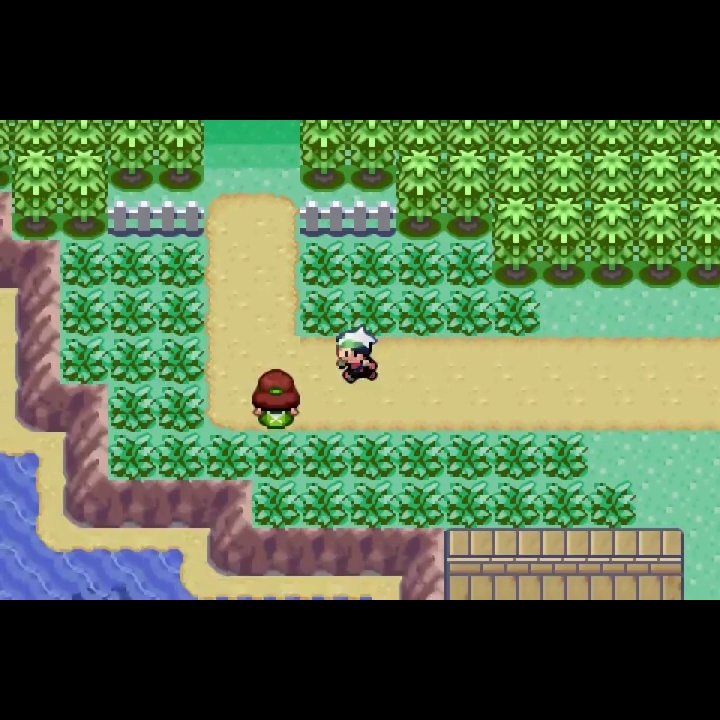grass: (444, 238, 494, 291), (61, 285, 111, 338), (109, 383, 159, 435), (395, 238, 444, 291), (157, 288, 208, 338), (491, 431, 541, 482), (300, 288, 352, 337), (396, 430, 444, 482), (444, 431, 492, 483), (298, 239, 348, 288), (445, 287, 494, 337), (158, 336, 208, 385), (157, 384, 206, 434), (251, 431, 302, 479), (542, 431, 590, 482), (539, 479, 590, 527), (347, 431, 396, 480), (108, 240, 156, 290), (157, 242, 207, 290), (348, 240, 396, 290), (60, 240, 108, 289), (110, 288, 158, 337), (300, 431, 348, 480), (589, 480, 637, 529), (397, 288, 445, 336), (348, 480, 396, 528), (61, 337, 108, 385), (158, 431, 205, 479), (205, 432, 253, 479), (253, 479, 300, 527), (494, 288, 540, 337), (110, 335, 156, 384), (494, 480, 541, 527), (110, 433, 158, 479), (300, 481, 348, 527), (397, 482, 445, 528), (446, 481, 492, 527), (352, 289, 397, 336)
npc: (246, 366, 304, 433), (331, 321, 385, 389)
wall: (635, 194, 684, 290), (444, 149, 493, 240), (61, 149, 109, 241), (540, 196, 588, 288), (589, 194, 635, 289), (12, 148, 60, 238), (492, 196, 539, 286), (396, 149, 444, 237), (155, 119, 205, 193), (299, 119, 348, 191), (349, 119, 396, 192), (685, 194, 720, 289), (109, 120, 155, 192), (493, 149, 540, 198), (635, 149, 684, 196), (541, 149, 588, 194), (589, 149, 635, 193), (685, 147, 720, 195), (397, 119, 444, 150), (590, 120, 637, 151), (445, 120, 493, 150), (636, 120, 684, 150), (495, 119, 540, 150), (12, 120, 60, 149), (60, 120, 108, 149), (542, 120, 589, 149), (685, 119, 720, 147)
